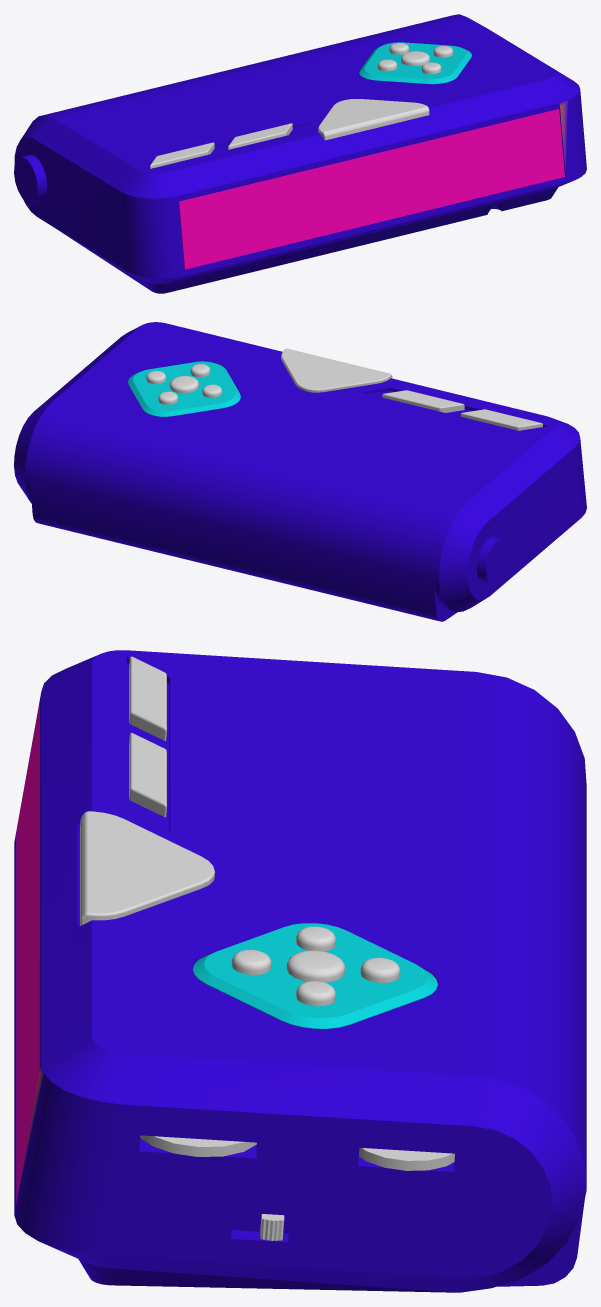
File: Alarm_Clock_KH_2216.fbx
3 views of the same model, one above another, from view 1: azimuth 30°, elevation 25°; view 2: azimuth 150°, elevation 25°; view 3: azimuth 270°, elevation 25° (orthographic). The views are drawn at different scales.
Parts seen in each view (by area): view 1: #CLK0003_Digital_Alarm_e-Bench_KH2216, #CLK0003_Snooze, #CLK0003_Radio, #CLK0003_Projection; view 2: #CLK0003_Digital_Alarm_e-Bench_KH2216, #CLK0003_Snooze, #CLK0003_Projection, #CLK0003_Radio, #CLK0003_Sleep; view 3: #CLK0003_Digital_Alarm_e-Bench_KH2216, #CLK0003_Snooze, #CLK0003_Radio, #CLK0003_Projection, #CLK0003_Volume_Wheel, #CLK0003_Tuning_Wheel, #CLK0003_Sleep, #CLK0003_Alarm, #CLK0003_Alarm_Minute, #CLK0003_Alarm_Time, #CLK0003_Alarm_Hour.
Boxes of the visible parts, left/top/right/bottom form: #CLK0003_Digital_Alarm_e-Bench_KH2216: left=14, top=14, right=586, bottom=293; #CLK0003_Snooze: left=318, top=99, right=429, bottom=140; #CLK0003_Radio: left=150, top=142, right=214, bottom=168; #CLK0003_Projection: left=228, top=123, right=292, bottom=149; #CLK0003_Digital_Alarm_e-Bench_KH2216: left=14, top=322, right=586, bottom=621; #CLK0003_Snooze: left=281, top=348, right=392, bottom=392; #CLK0003_Projection: left=382, top=390, right=464, bottom=412; #CLK0003_Radio: left=460, top=409, right=542, bottom=430; #CLK0003_Sleep: left=169, top=376, right=198, bottom=393; #CLK0003_Digital_Alarm_e-Bench_KH2216: left=14, top=650, right=586, bottom=1292; #CLK0003_Snooze: left=80, top=811, right=215, bottom=925; #CLK0003_Radio: left=129, top=656, right=166, bottom=740; #CLK0003_Projection: left=129, top=732, right=166, bottom=817; #CLK0003_Volume_Wheel: left=359, top=1147, right=454, bottom=1170; #CLK0003_Tuning_Wheel: left=140, top=1135, right=256, bottom=1156; #CLK0003_Sleep: left=286, top=950, right=345, bottom=982; #CLK0003_Alarm: left=360, top=957, right=400, bottom=982; #CLK0003_Alarm_Minute: left=296, top=981, right=335, bottom=1006; #CLK0003_Alarm_Time: left=231, top=949, right=271, bottom=974; #CLK0003_Alarm_Hour: left=296, top=926, right=335, bottom=951.
Bounding box in the file's own units: 19.66 × 5.06 × 10.39.
